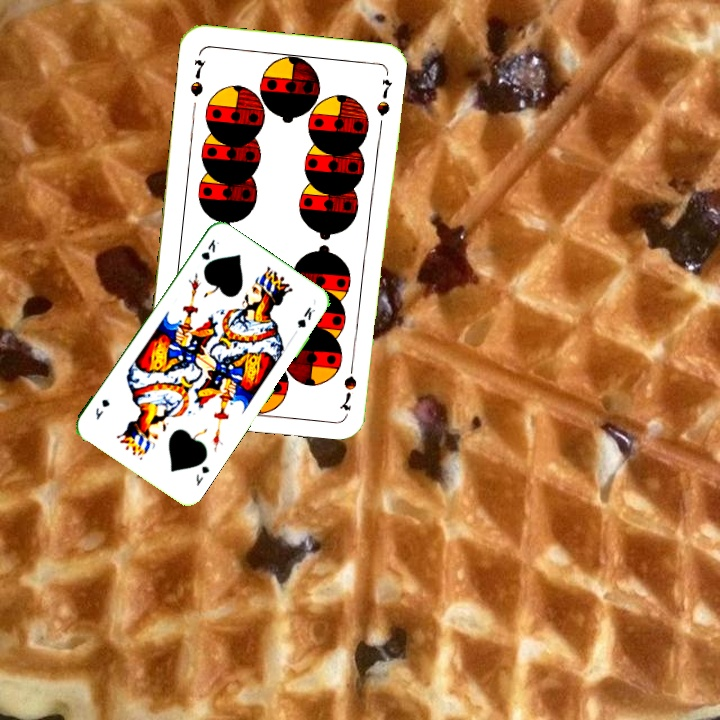GK: (197, 235, 222, 263), (192, 462, 212, 489)
S7: (336, 356, 360, 413), (186, 55, 209, 99)
